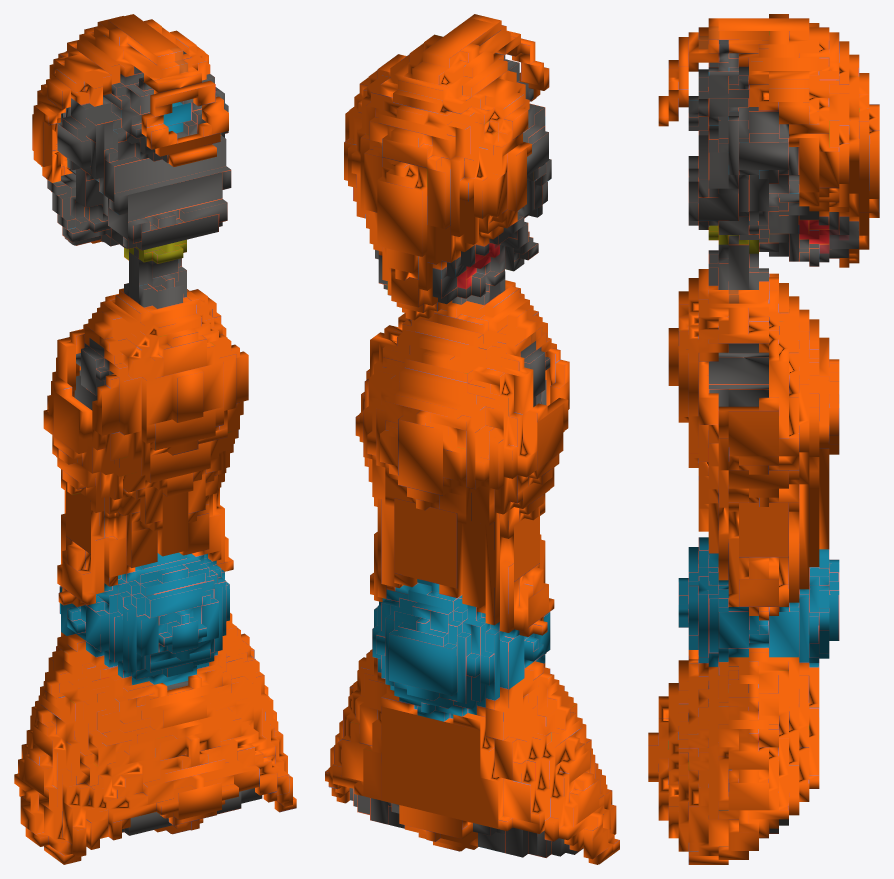
Rendered from KaishiTorso.obj.
3 views of the same model, side by side, from view 1: azimuth 30°, elevation 25°; view 2: azimuth 150°, elevation 25°; view 3: azimuth 270°, elevation 25° (orthographic). The views are drawn at different scales.
Visible parts, largest first — view 1: kaishitronco_29x86x23; view 2: kaishitronco_29x86x23; view 3: kaishitronco_29x86x23.
Boxes of the visible parts, x1,y1,x2,y2 form: kaishitronco_29x86x23: (14,14,296,864); kaishitronco_29x86x23: (325,14,619,864); kaishitronco_29x86x23: (648,14,879,864).
Bounding box in the file's own units: 0.3473 × 1.03 × 0.2754.
